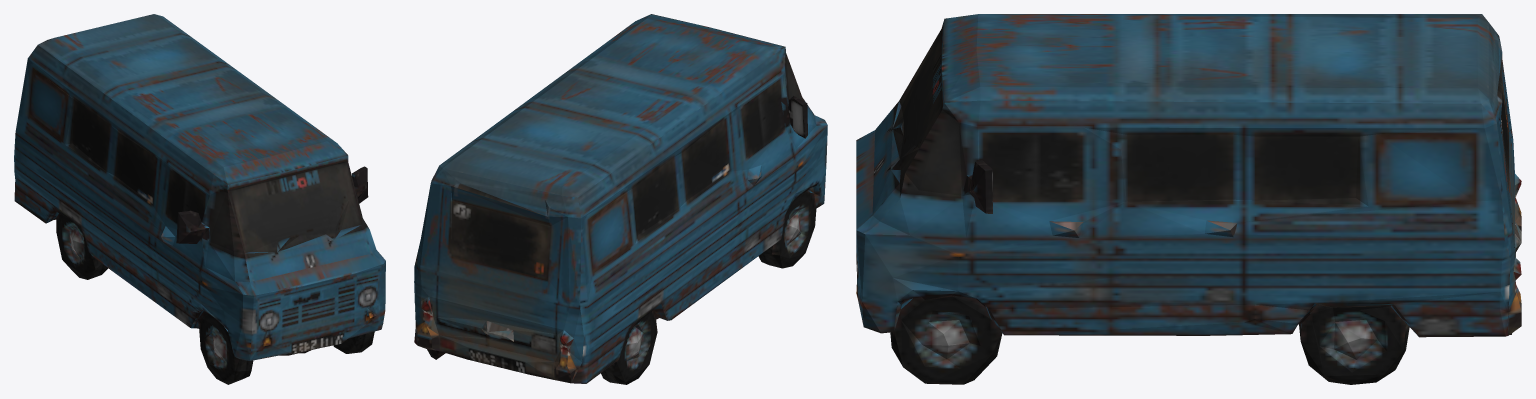
3 views of the same model, side by side, from view 1: azimuth 30°, elevation 25°; view 2: azimuth 150°, elevation 25°; view 3: azimuth 270°, elevation 25° (orthographic). The views are drawn at different scales.
Size of the model in its own units: 2.03 by 2.05 by 4.31.
Materials: 1 (1 with a texture image).
